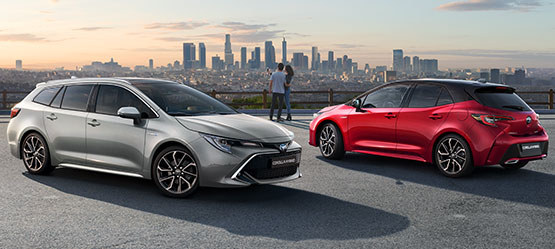car: (7, 77, 302, 199), (309, 78, 550, 178)
